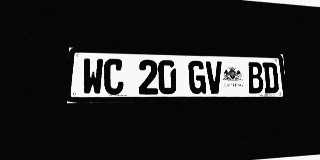0: (158, 60, 176, 94)
2: (139, 59, 158, 95)
B: (247, 62, 264, 93)
C: (104, 59, 124, 95)
D: (262, 62, 279, 93)
G: (188, 61, 206, 94)
V: (205, 61, 223, 94)
W: (82, 58, 103, 95)
